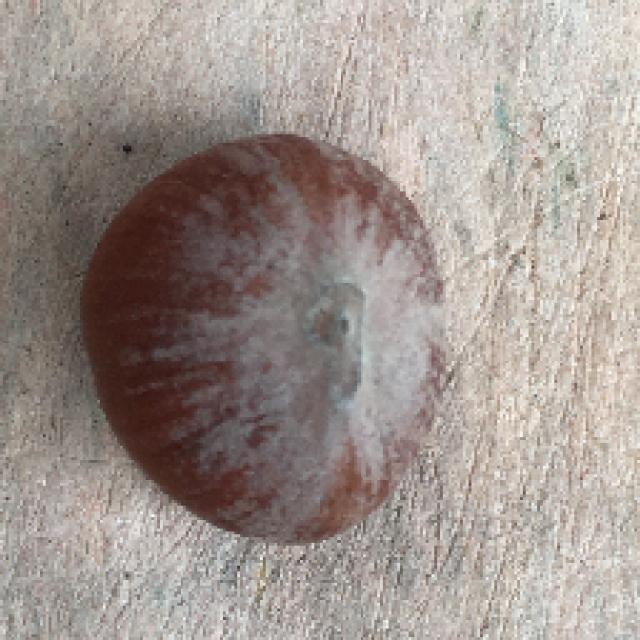QualityHazelnut: (78, 133, 449, 541)
